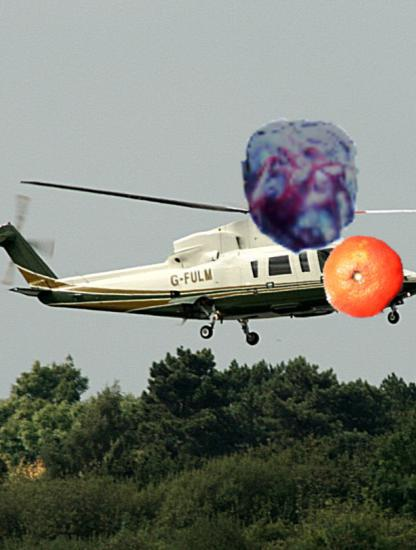Clementine: (320, 235, 407, 322)
Dates: (231, 116, 370, 255)
